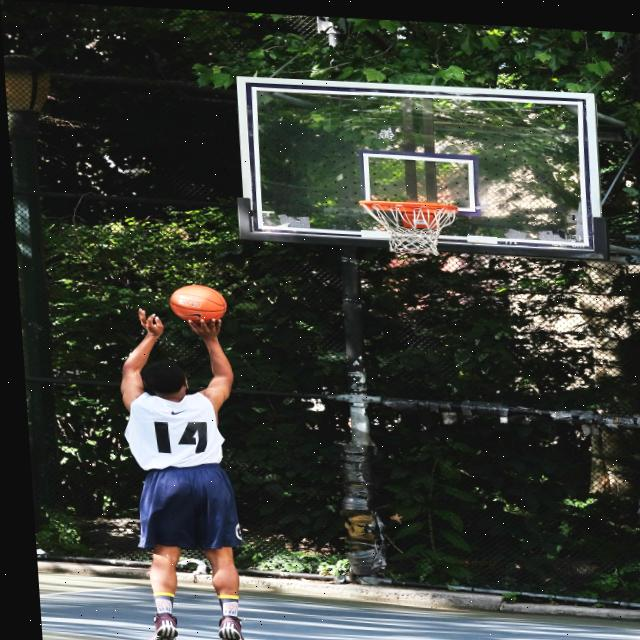basketball: (167, 285, 229, 325)
hoop: (360, 199, 463, 257)
